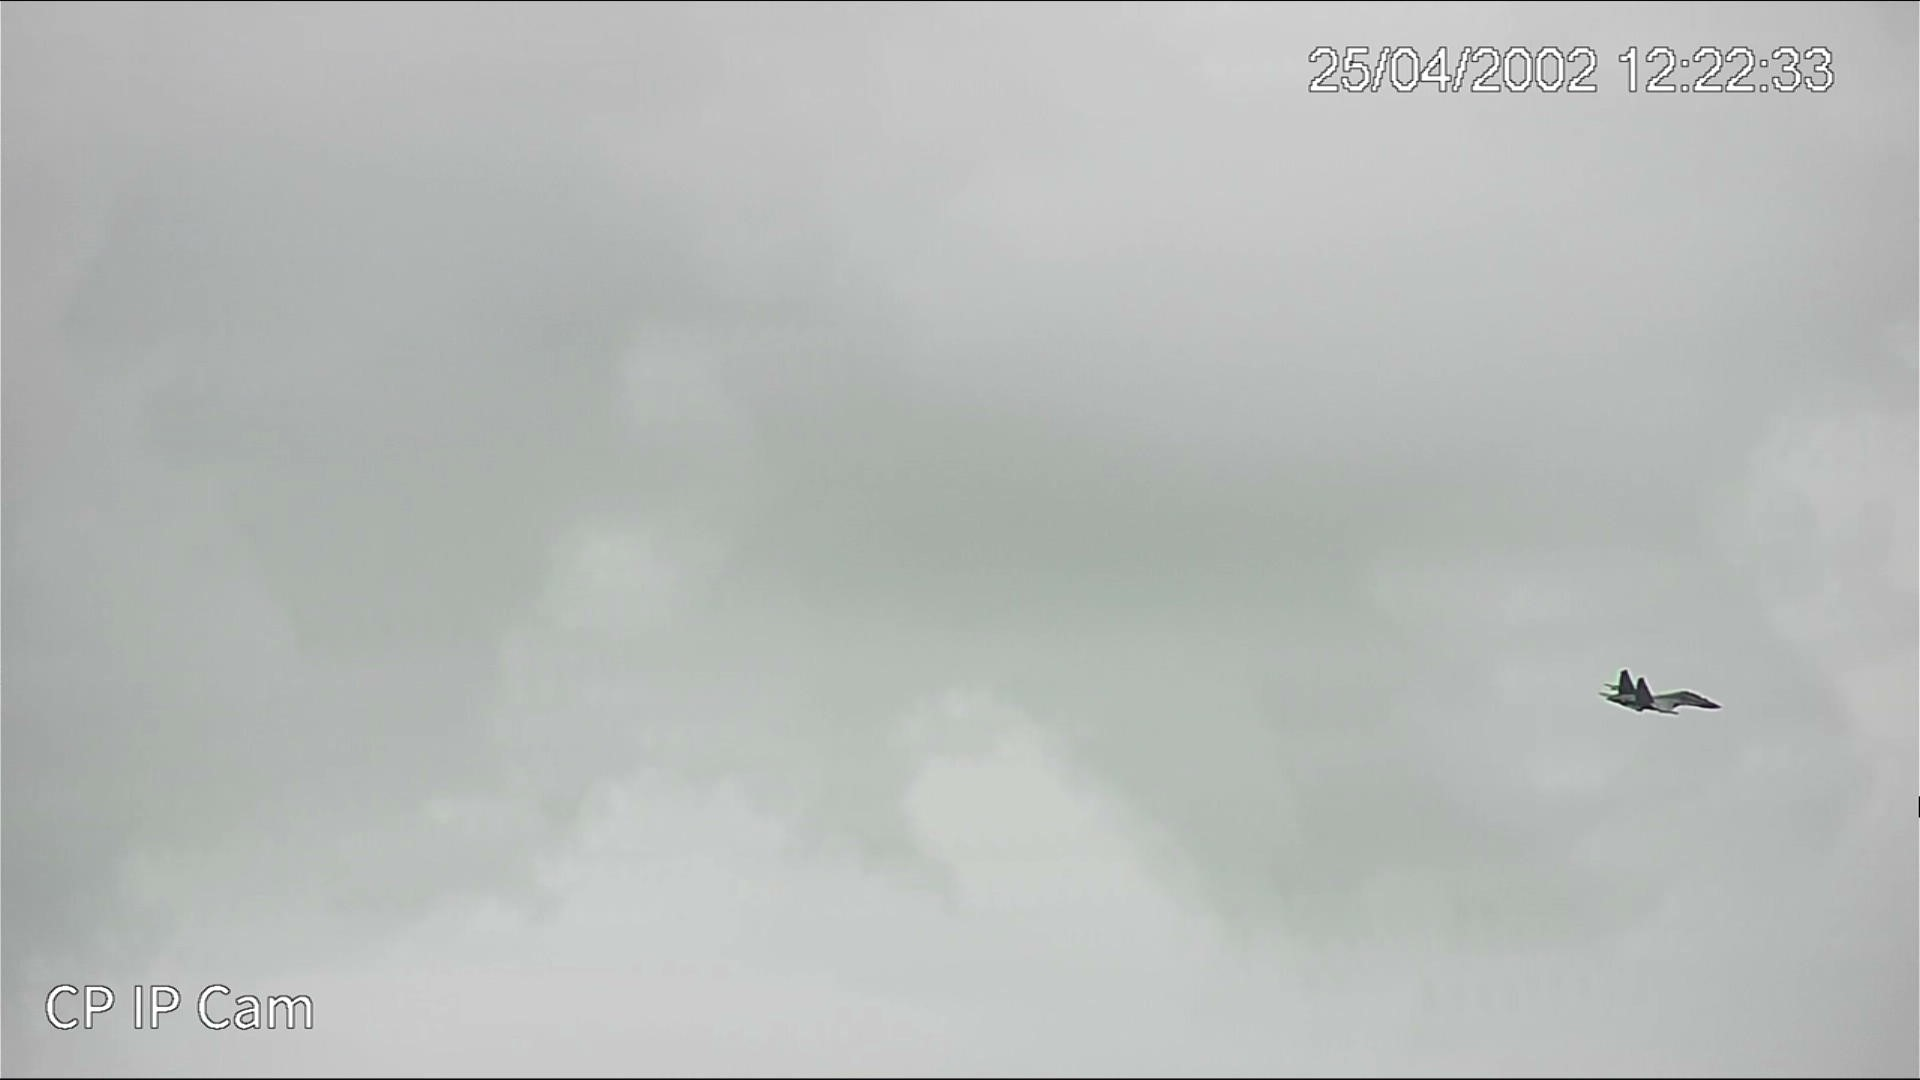SU_30: (1604, 669, 1725, 720)
